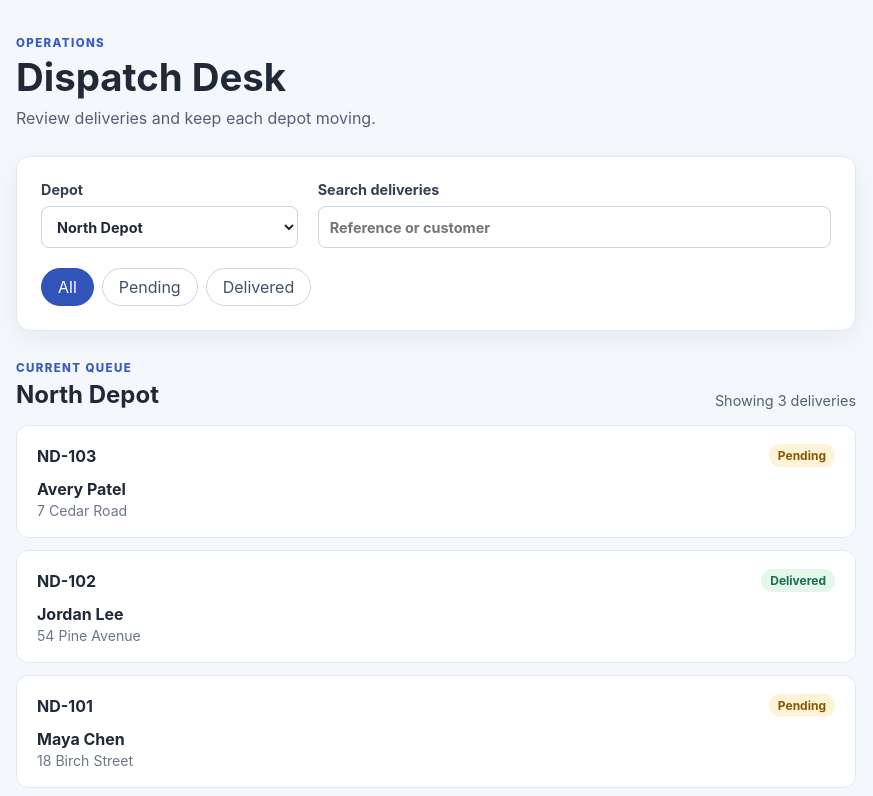
Test: dispatch dashboard › updates the cards and count immediately when the depot changes
Select "South Depot" in the dropdown labelled "Depot" at coordinates (169, 227), box [41,206,298,248]
(page scrolled)
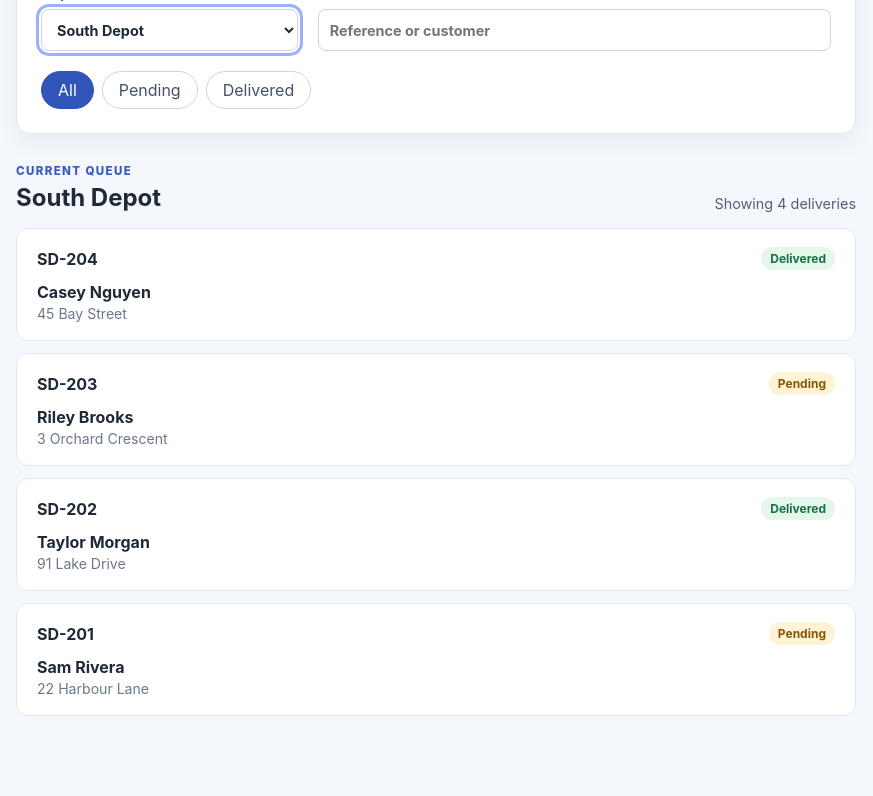
Result: the heading "South Depot" is shown at [16,183,161,212]
Result: the text "Showing 4 deliveries" is shown at [714,195,856,212]
Result: the text "SD-201" is shown at [37,624,94,644]
